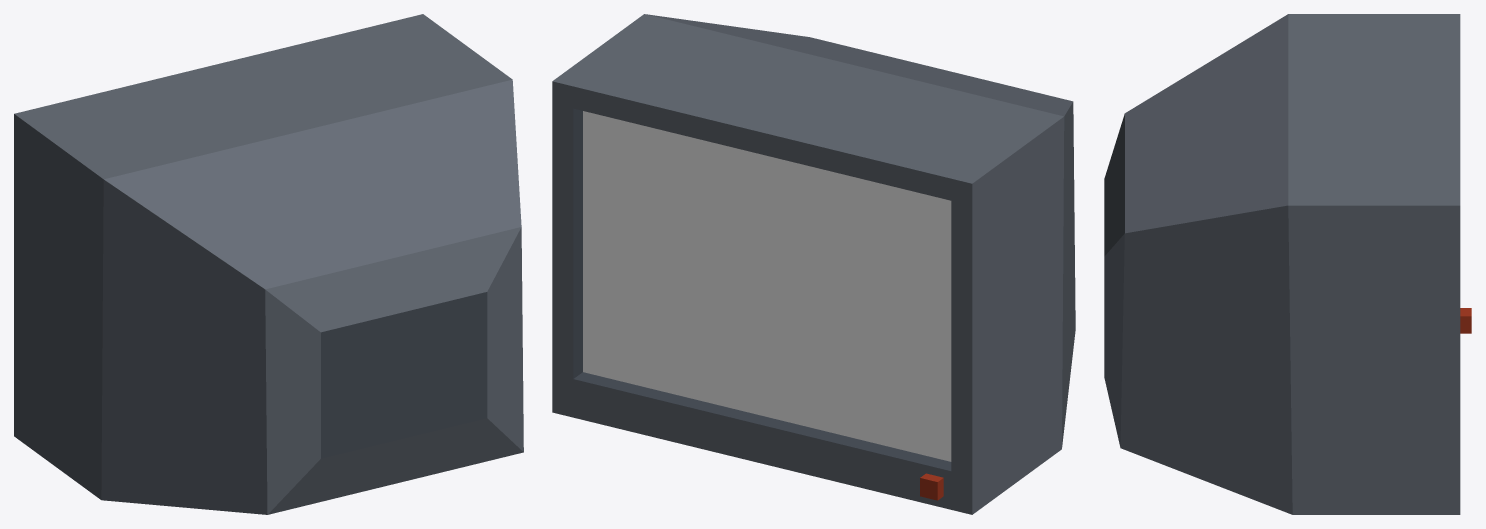
3 renders of one model, left to right at view 1: azimuth 30°, elevation 25°; view 2: azimuth 150°, elevation 25°; view 3: azimuth 270°, elevation 25°, orthographic. The views are drawn at different scales.
Parts seen in each view (by area): view 1: Tv; view 2: Tv; view 3: Tv.
Boxes of the visible parts, x1,y1,x2,y2 form: Tv: [14, 14, 523, 514]; Tv: [552, 14, 1075, 514]; Tv: [1104, 14, 1471, 514].
Bounding box in the file's own units: 516 × 418 × 389.
